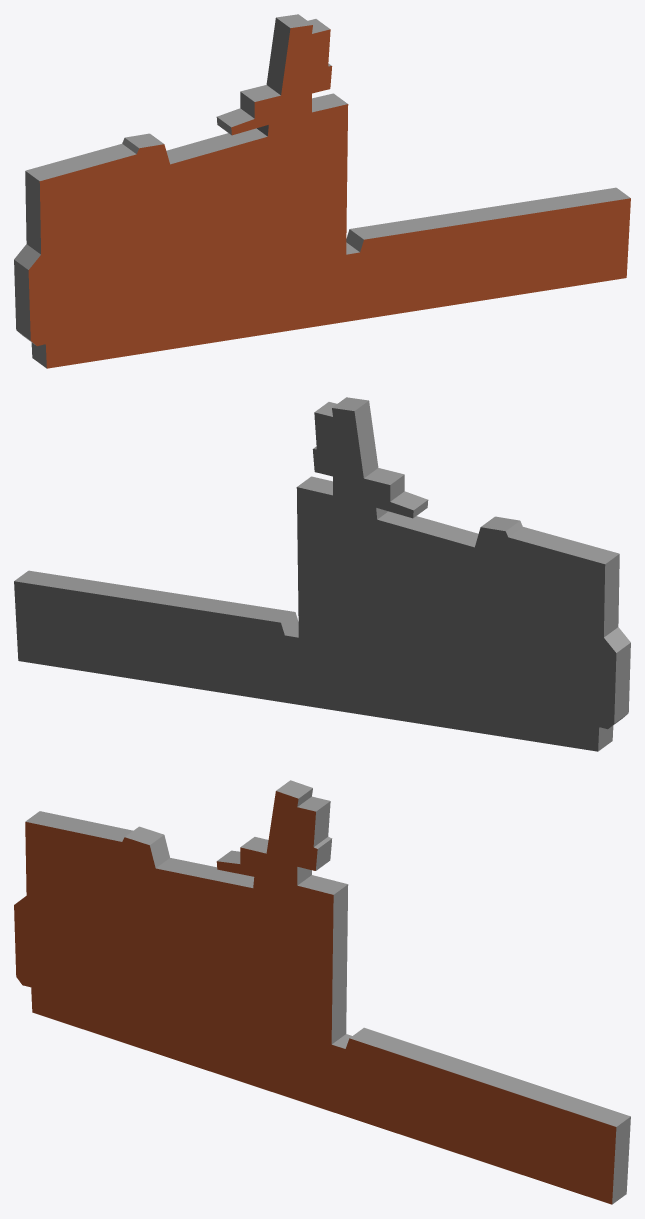
Rendered from construction_3782_assumed_A_Casa_h6m.obj.
3 views of the same model, one above another, from view 1: azimuth 30°, elevation 25°; view 2: azimuth 150°, elevation 25°; view 3: azimuth 330°, elevation 25° (orthographic).
Visible parts, largest first — view 1: construction_3782_assumed_A_Casa; view 2: construction_3782_assumed_A_Casa; view 3: construction_3782_assumed_A_Casa.
Part boxes in pixels (box(x1,y1,x2,y2)): construction_3782_assumed_A_Casa: box(14, 14, 630, 368); construction_3782_assumed_A_Casa: box(14, 397, 630, 751); construction_3782_assumed_A_Casa: box(14, 780, 630, 1204).
Bounding box in the file's own units: 143 × 75.36 × 6.
